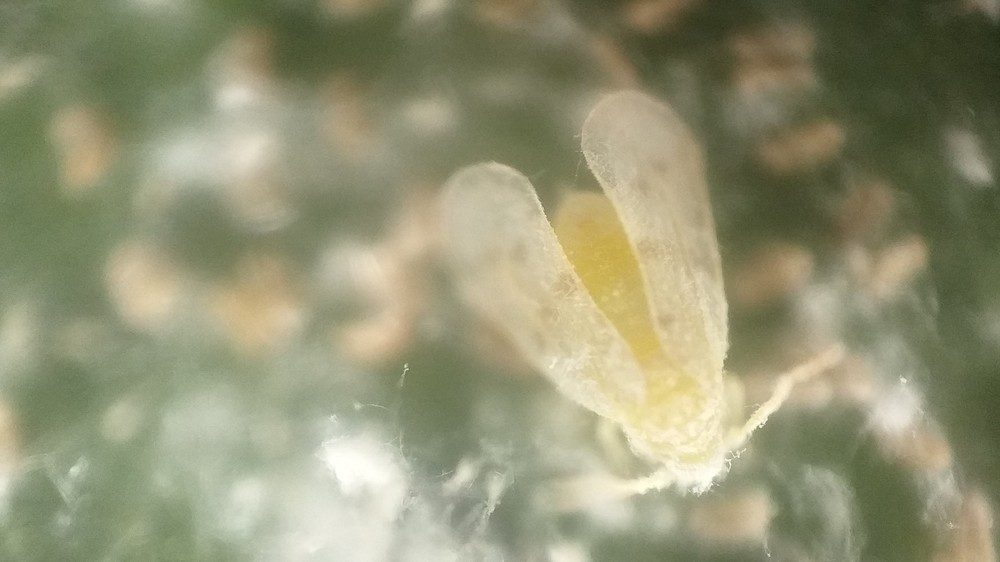Mosca Blanca: (405, 87, 848, 533)
